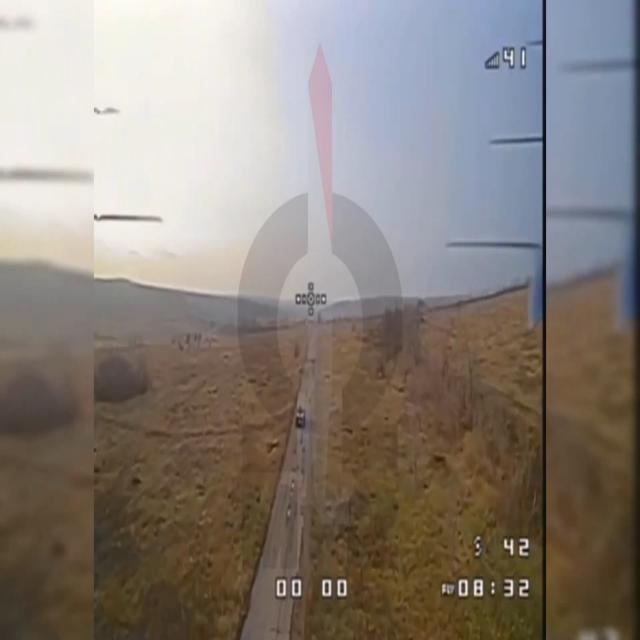apc: (296, 408, 306, 427)
